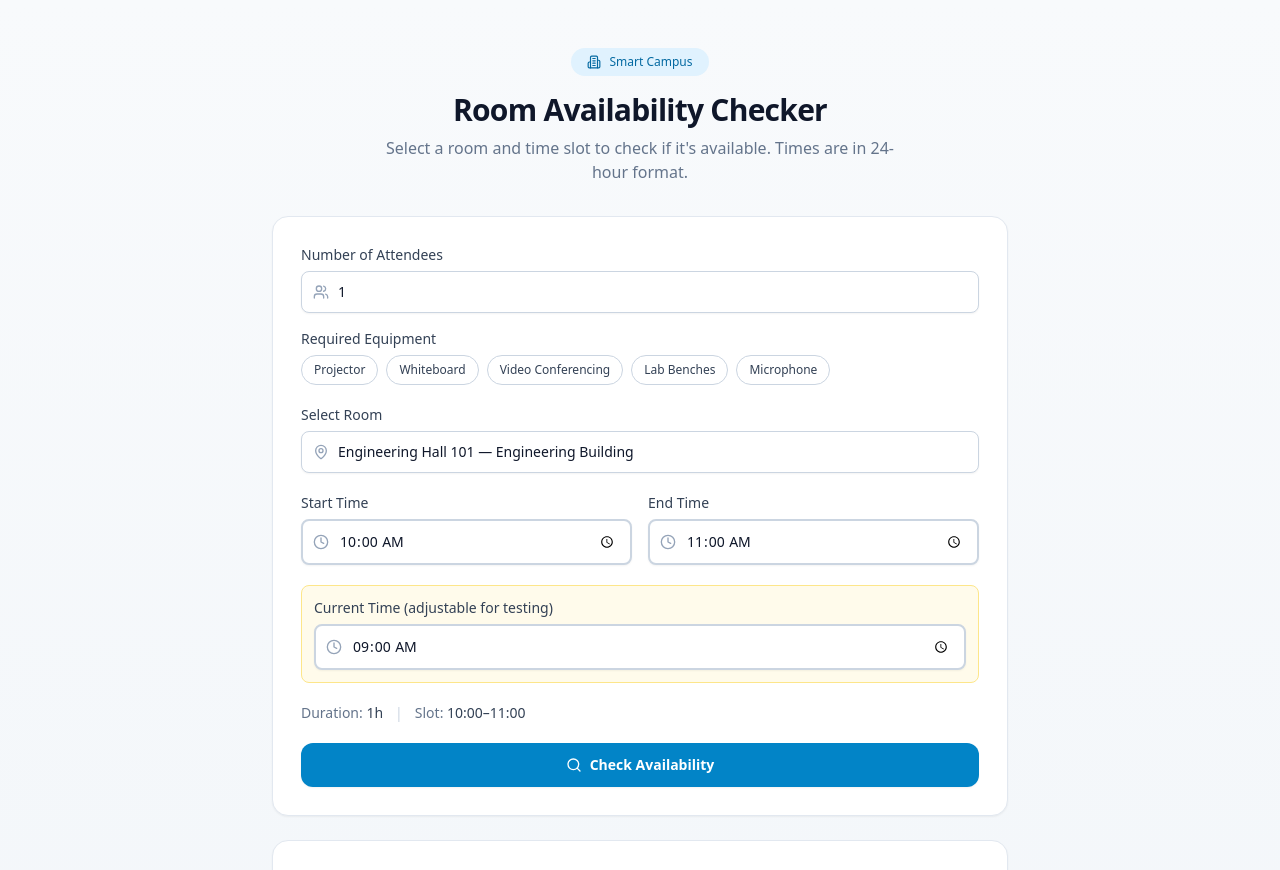
Test: AI explanation UI › shows the Explain button after checking availability
Click the button "Check Availability": {"x": 640, "y": 765} [301,743,979,787]
(page scrolled)
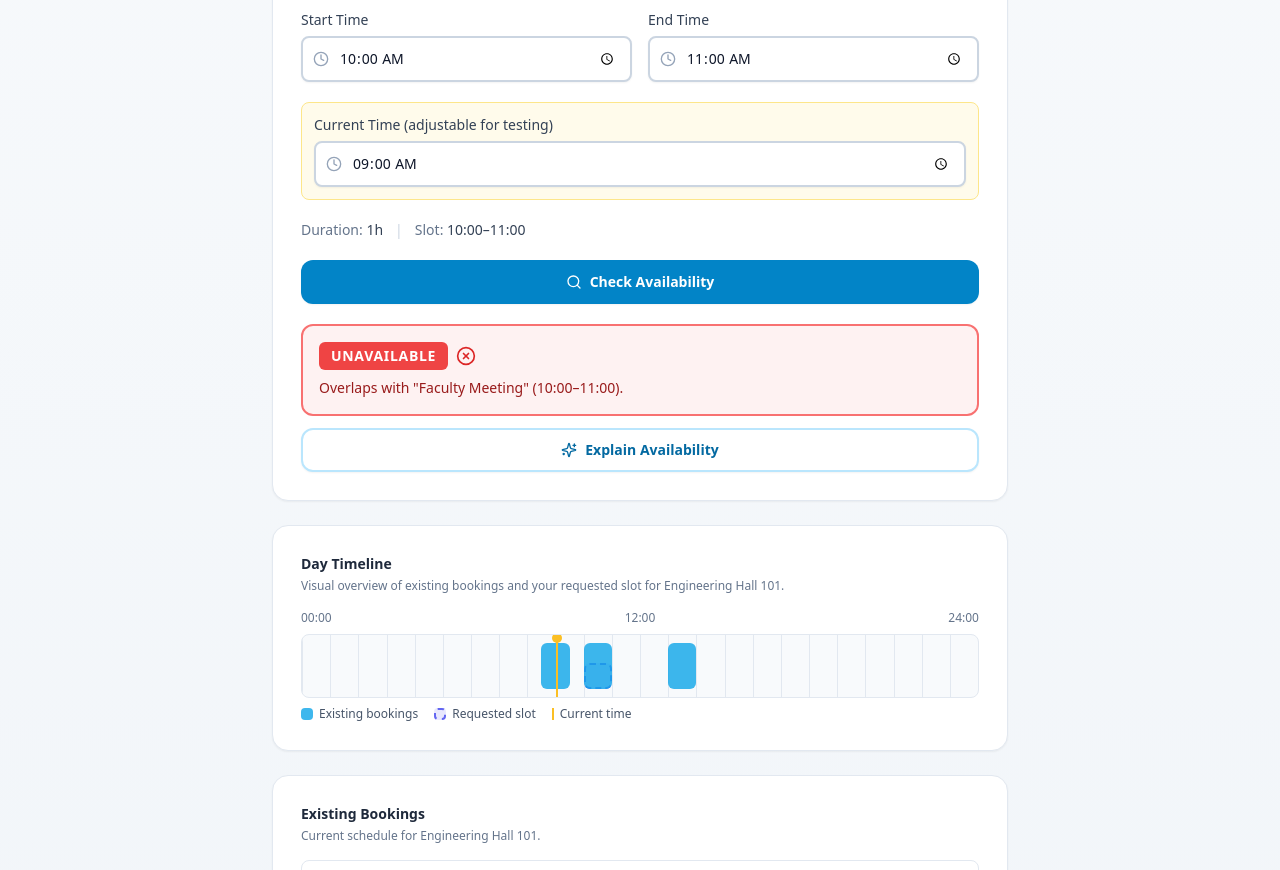
Check: the button "Explain Availability" is shown, box [301,428,979,472]
